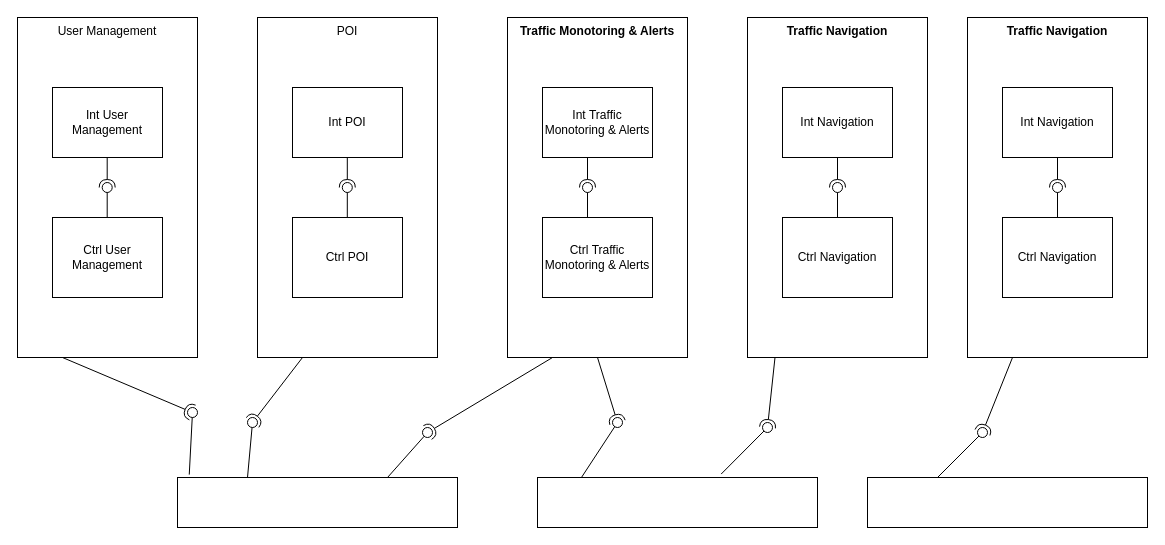
Image size: 1165x545. Some labels were removed from this diagram. Each missing label, with the box of its shape:
MapData: (866, 476, 1148, 528)
MyWazeData: (176, 476, 458, 528)
TrafficData: (536, 476, 818, 528)
